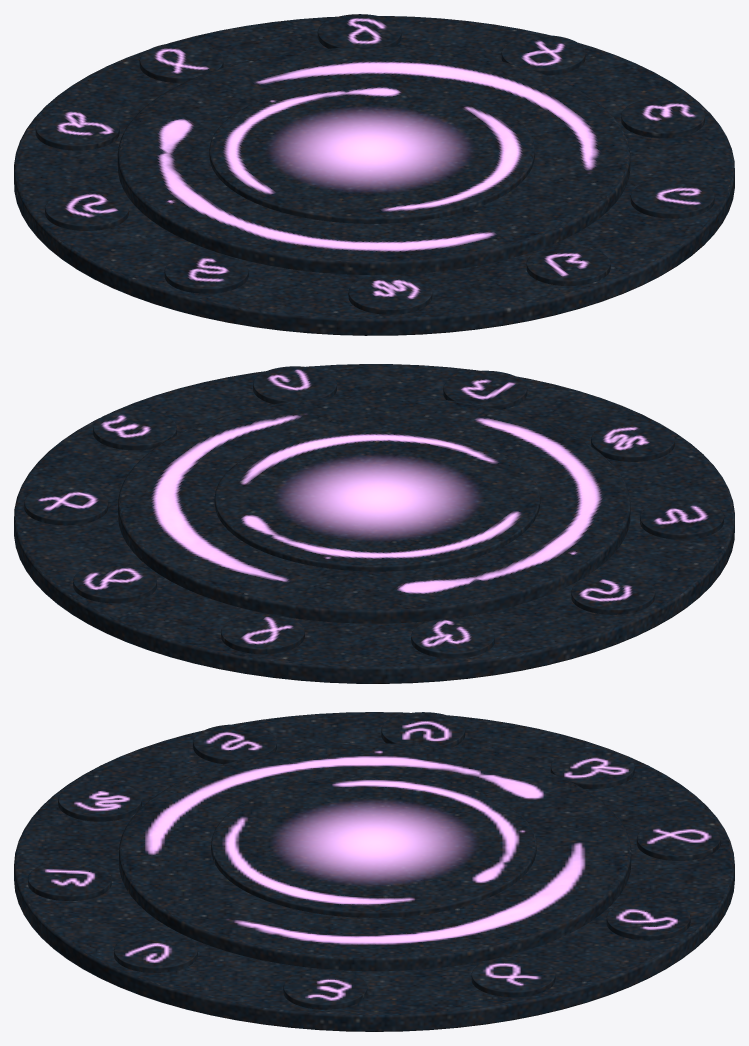
The model's file is platform_2.glb.
3 renders of one model, top to bottom at view 1: azimuth 30°, elevation 25°; view 2: azimuth 150°, elevation 25°; view 3: azimuth 270°, elevation 25°, orthographic.
Visible parts, largest first — view 1: pCylinder65; view 2: pCylinder65; view 3: pCylinder65.
Part boxes in pixels (box(x1,y1,x2,y2)): pCylinder65: box(14, 14, 734, 335); pCylinder65: box(14, 364, 734, 683); pCylinder65: box(14, 712, 734, 1031).
Size of the model in its own units: 1.97 by 0.1149 by 1.97.
1 material, 1 textured.
